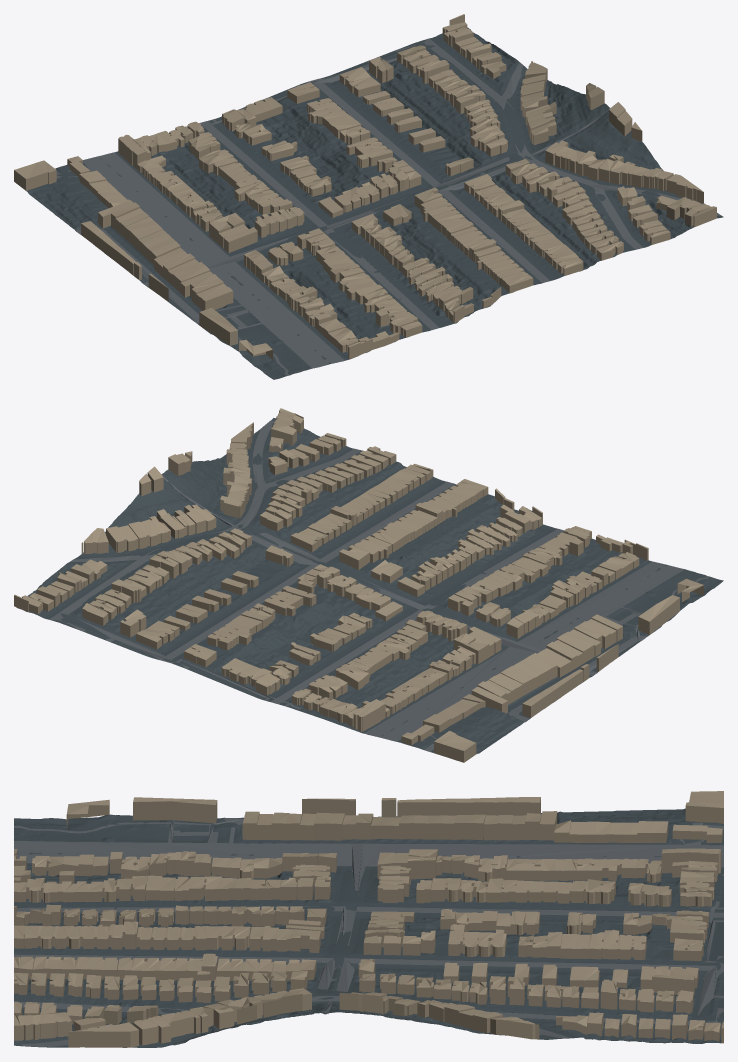
Rendered from epsg26910-1422-10882.lod0.glb.
3 views of the same model, one above another, from view 1: azimuth 30°, elevation 25°; view 2: azimuth 150°, elevation 25°; view 3: azimuth 270°, elevation 25° (orthographic). The views are drawn at different scales.
Visible parts, largest first — view 1: epsg26910-1422-10882-lod0; view 2: epsg26910-1422-10882-lod0; view 3: epsg26910-1422-10882-lod0.
Part boxes in pixels (left/top/right/bottom): epsg26910-1422-10882-lod0: left=14, top=14, right=723, bottom=379; epsg26910-1422-10882-lod0: left=14, top=408, right=723, bottom=762; epsg26910-1422-10882-lod0: left=14, top=791, right=723, bottom=1047.
Bounding box in the file's own units: 384 × 75.82 × 384.
